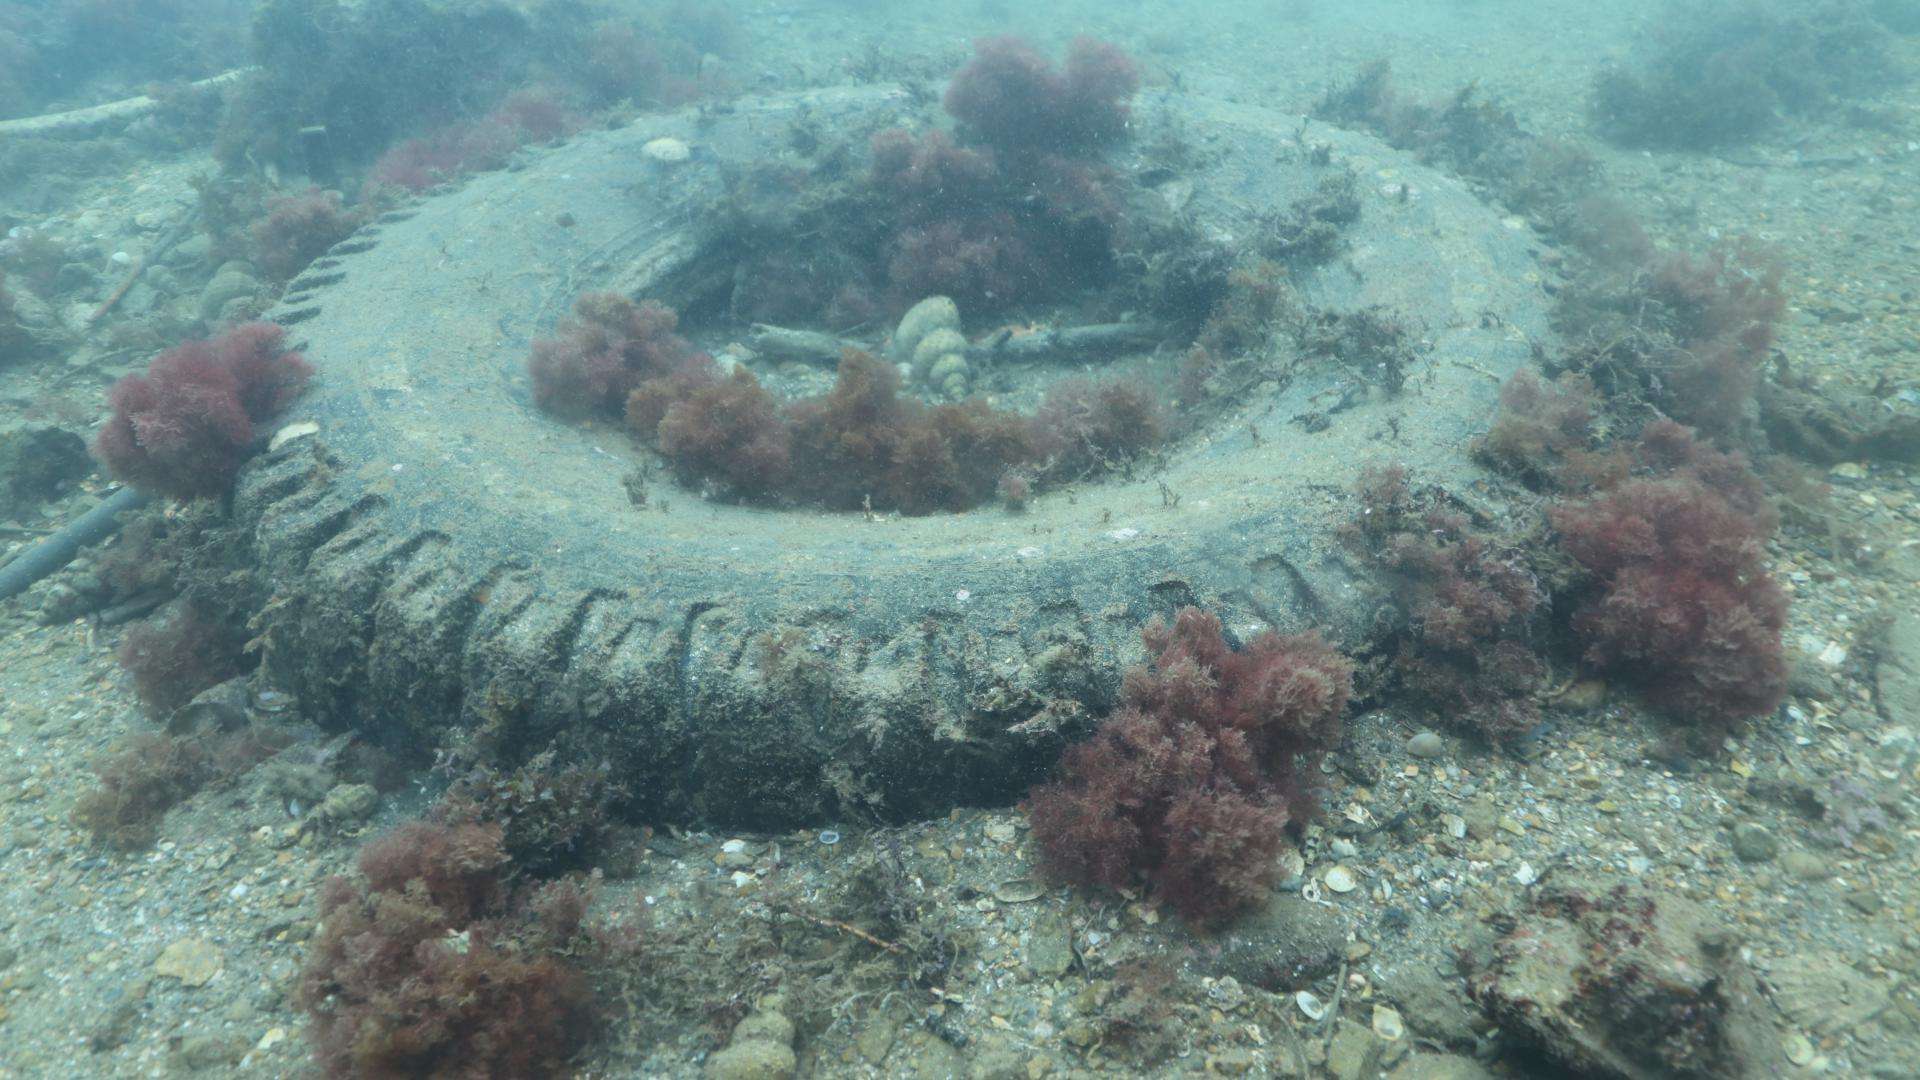tire: (229, 76, 1610, 833)
